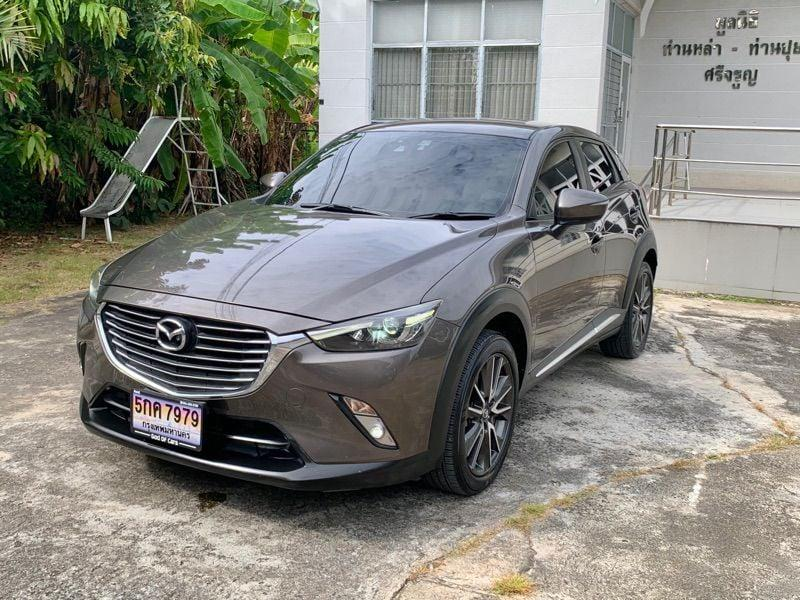license-plate: (126, 377, 209, 463)
